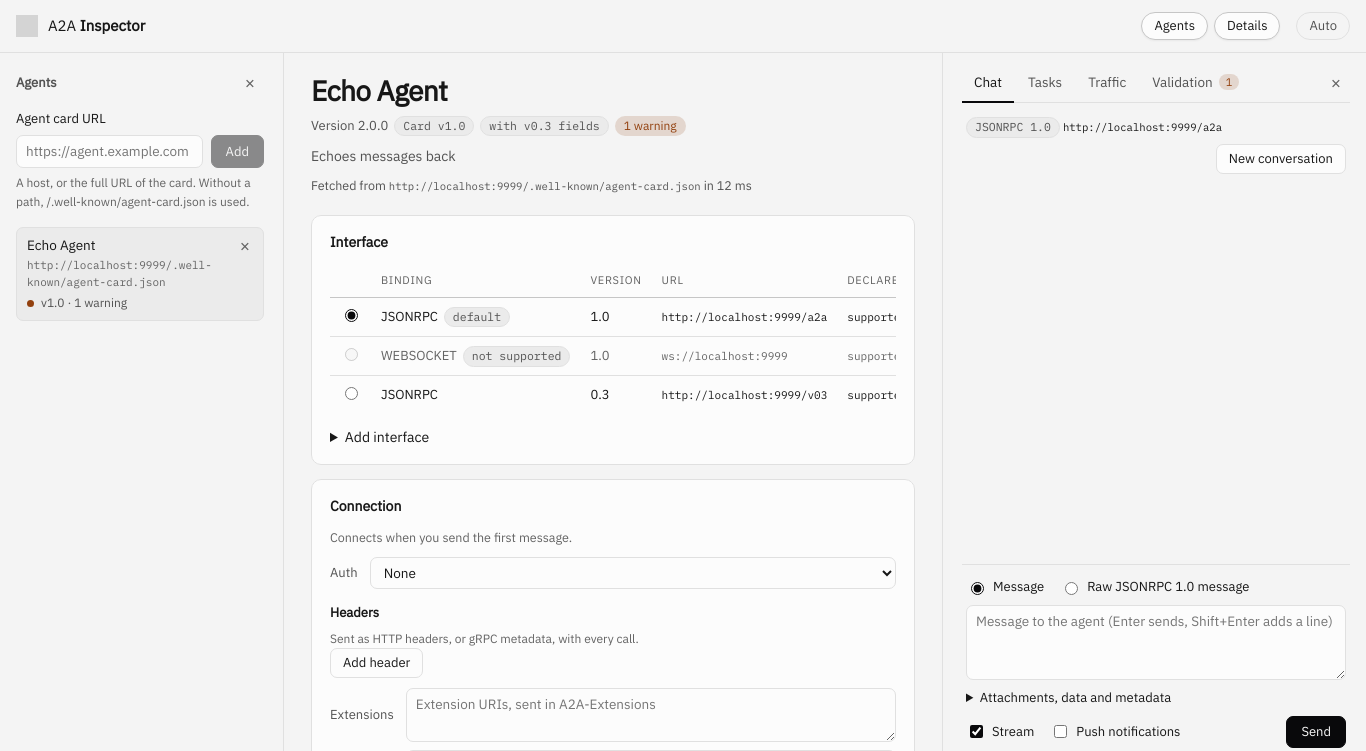
App › opens the agent given on the command line
This screenshot has width=1366, height=751.
expect the heading "Echo Agent" is shown: met, box [311, 72, 447, 109]
expect the radio button named "JSONRPC 1.0 at http://localhost:9999/a2a" is checked: met, box [345, 309, 358, 322]
Click the radio button named "JSONRPC 0.3 at http://localhost:9999/v03" at (352, 394), box [345, 388, 358, 400]
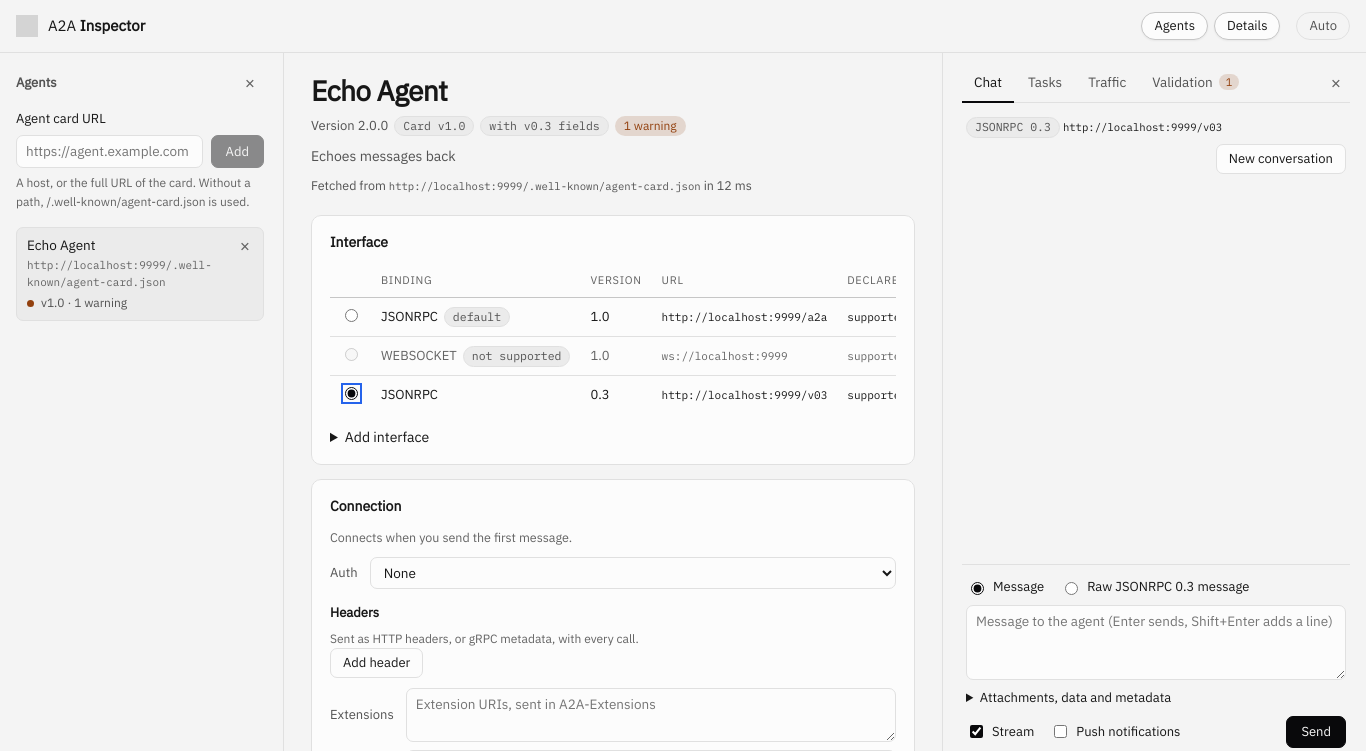
expect the text "with v0.3 fields" is shown: met, box [480, 116, 609, 136]
expect the radio button named "JSONRPC 0.3 at http://localhost:9999/v03" is checked: met, box [345, 388, 358, 400]
Click the tab "Validation 1" at (1196, 83), box [1140, 62, 1251, 103]
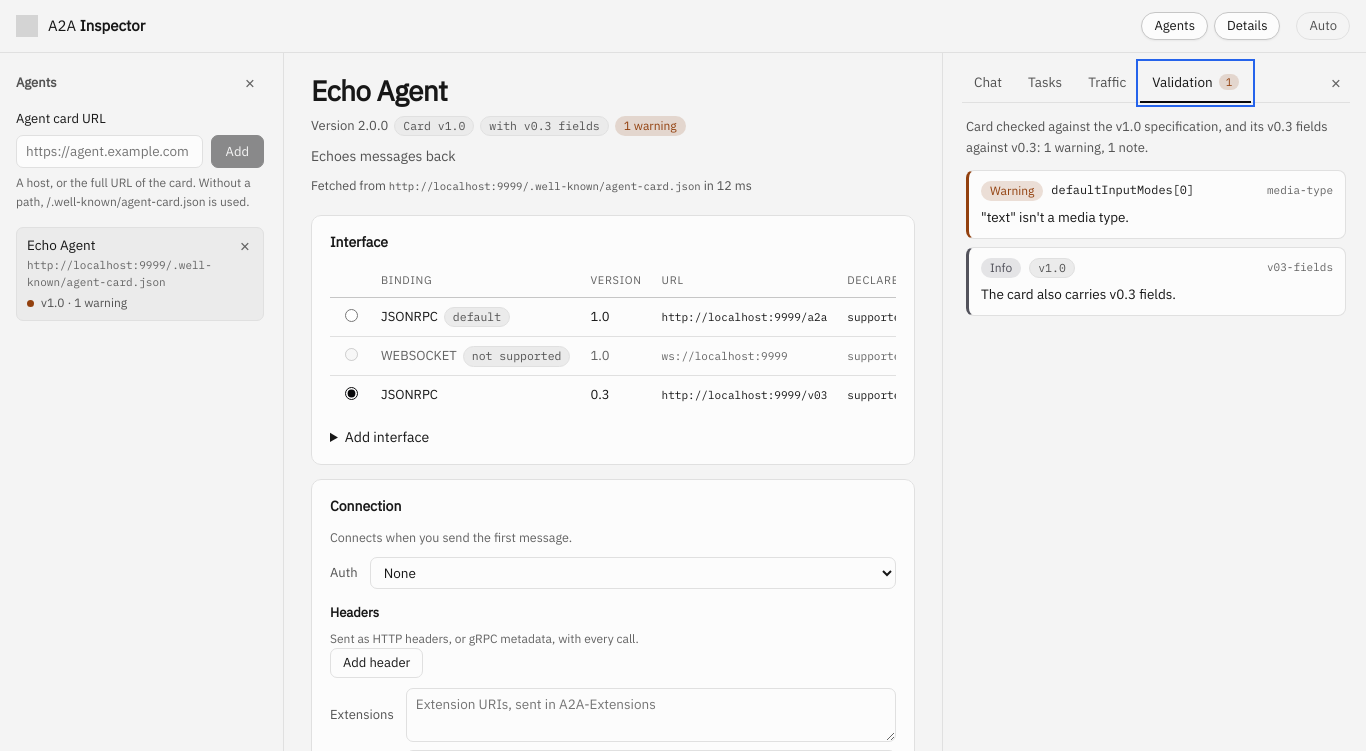
expect the text named "1 problems" is shown: met, box [1219, 74, 1239, 90]
expect the text "\"text\" isn't a media type." is shown: met, box [981, 208, 1129, 226]
expect the text "defaultInputModes[0]" is shown: met, box [1051, 182, 1194, 200]
